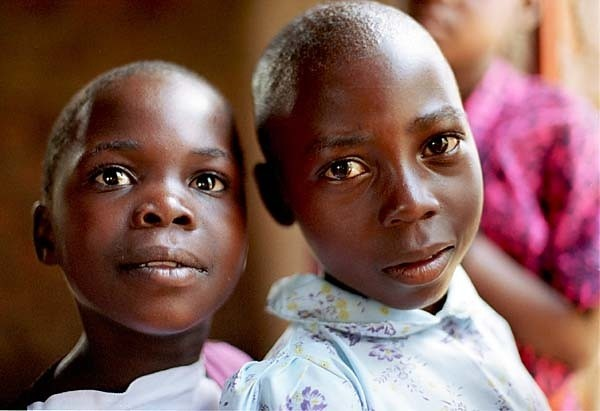face_no_mask: (253, 4, 485, 310), (31, 62, 254, 336)
